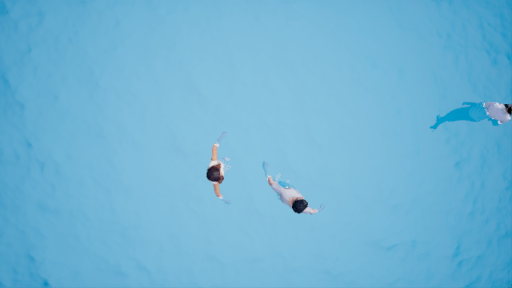person: (263, 160, 321, 221), (432, 98, 512, 132), (205, 131, 236, 206)
